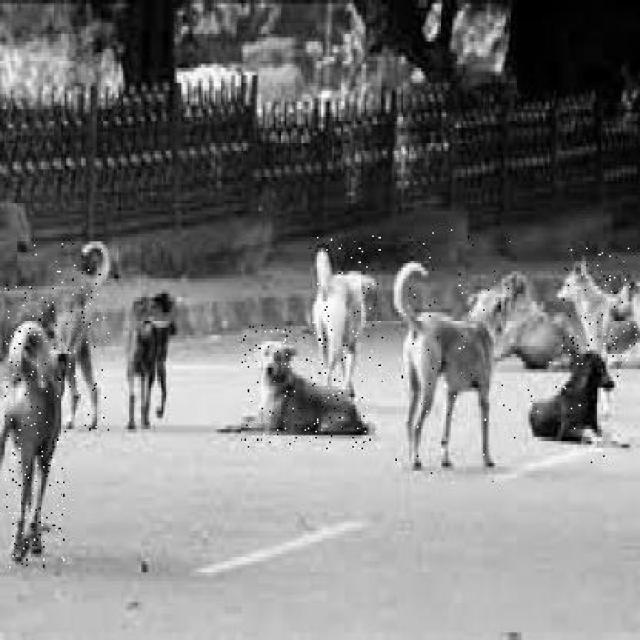Dog: (395, 226, 517, 485), (5, 283, 67, 569), (239, 326, 379, 452), (33, 243, 112, 440), (309, 229, 386, 383), (526, 358, 626, 464), (558, 248, 638, 369), (126, 270, 186, 424)
